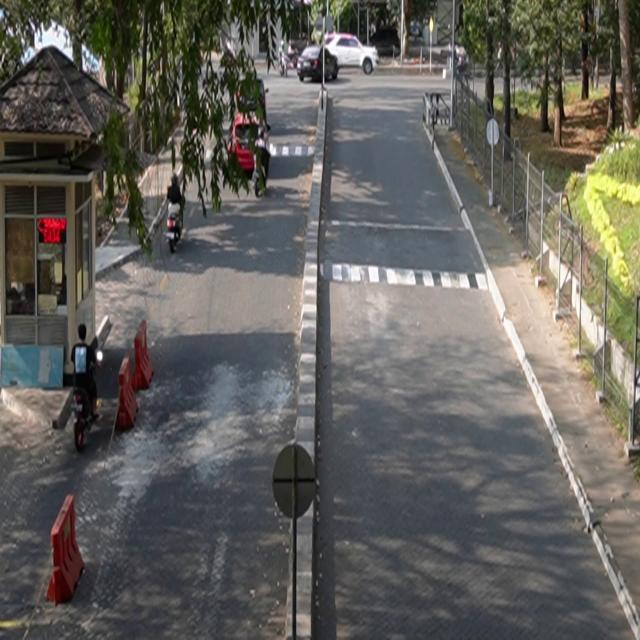car: (326, 34, 380, 76), (298, 46, 339, 83)
